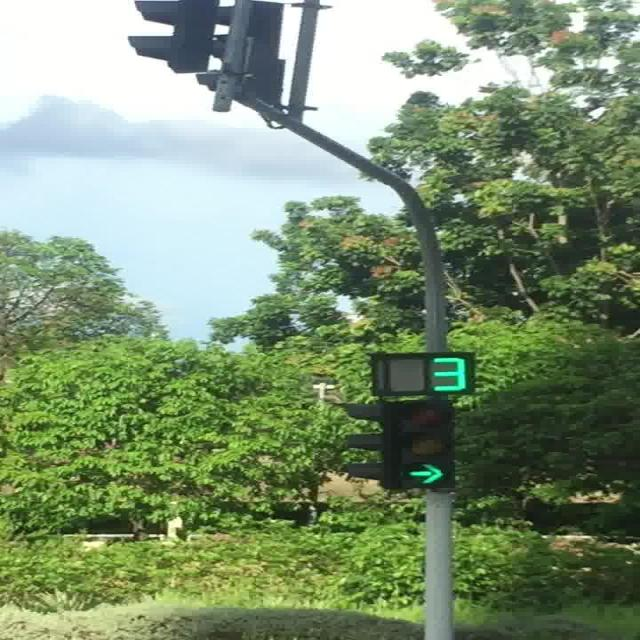traffic light: (342, 400, 456, 490), (127, 0, 221, 74), (387, 399, 455, 490), (371, 352, 476, 398), (343, 402, 387, 486)
